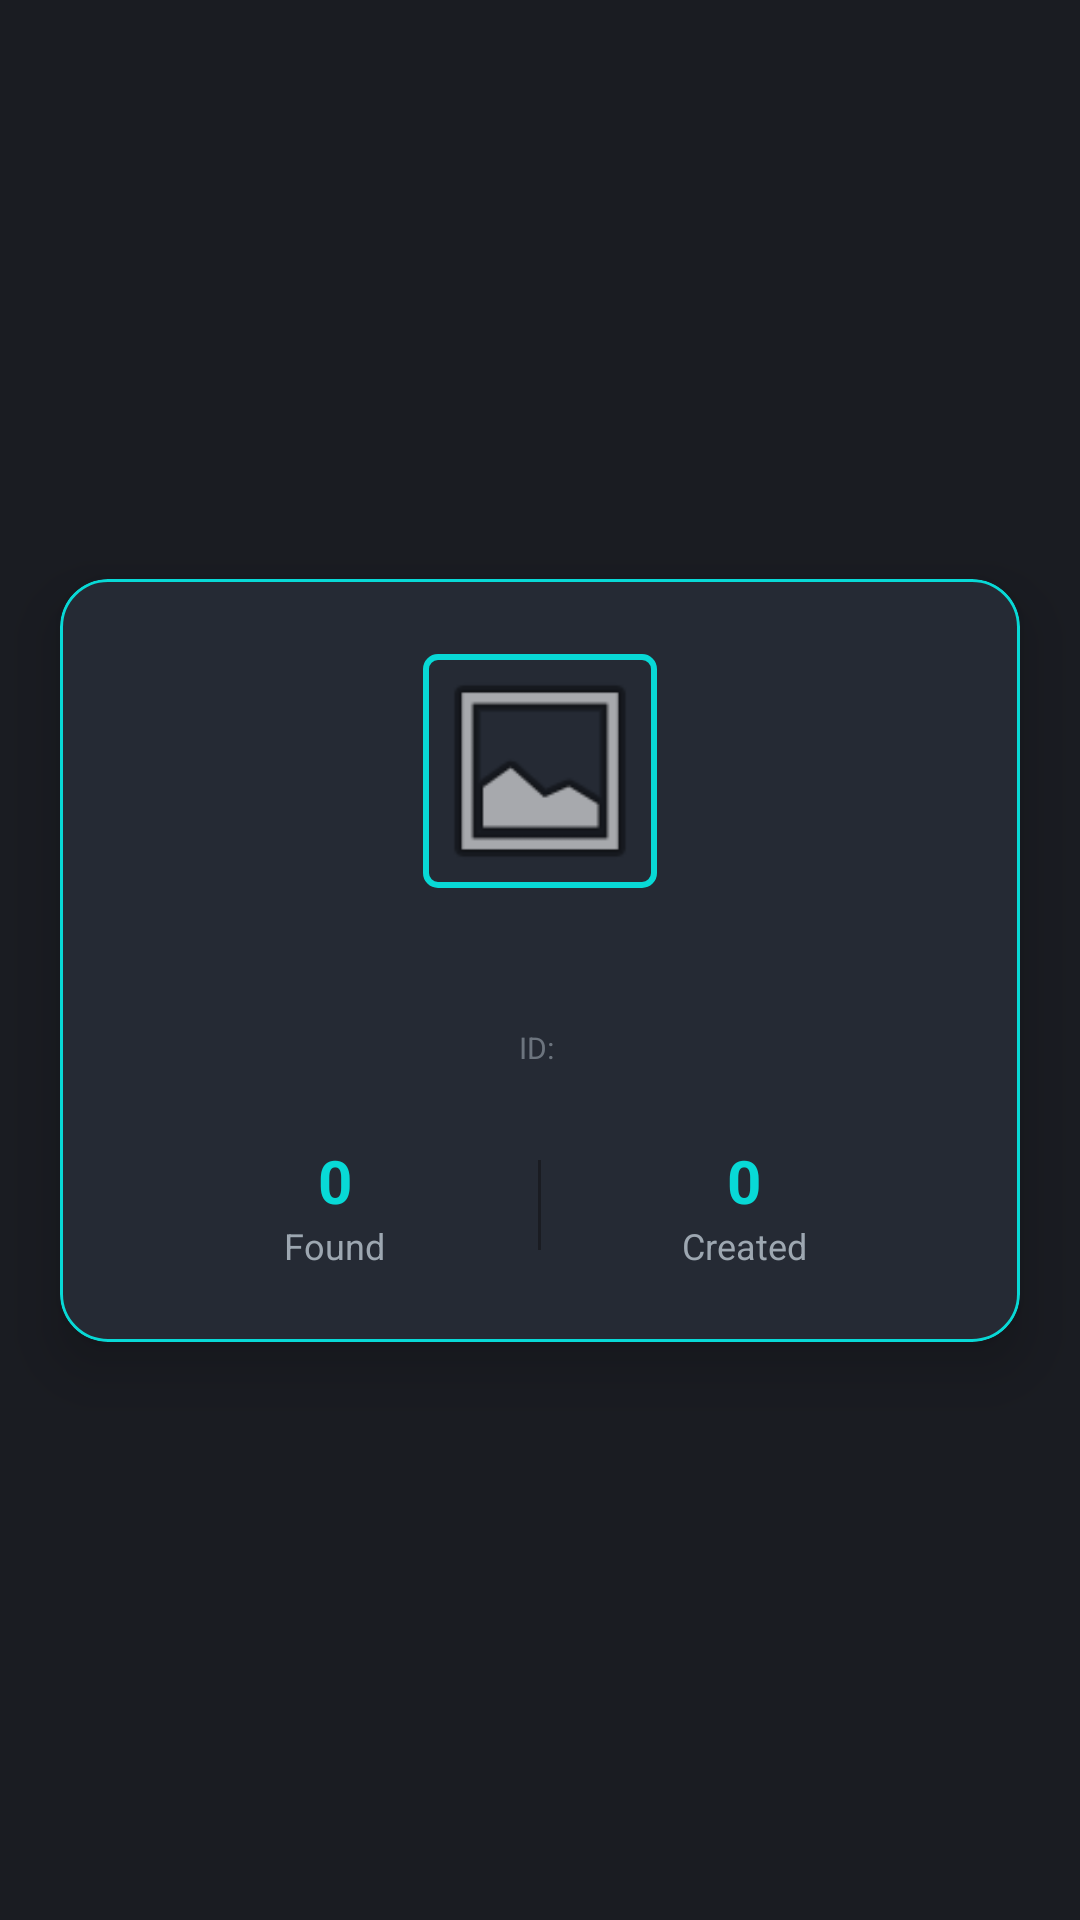

Where icons sit on this 1080w x 1920h app screen, as (x1, y1, x2, y2):
gallery: (423, 654, 657, 888)
